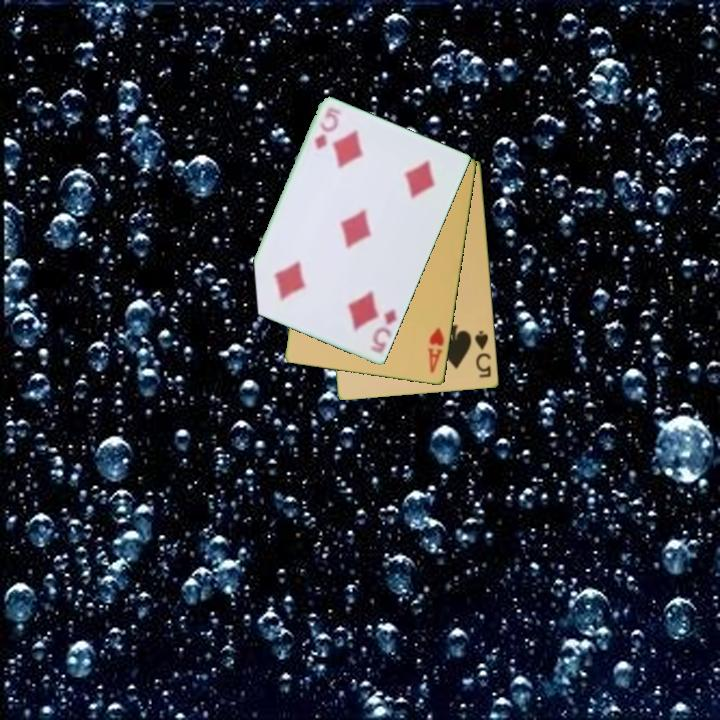5d: (366, 305, 400, 357), (311, 113, 338, 153)
5s: (472, 327, 494, 381)
Ah: (424, 324, 448, 376)
